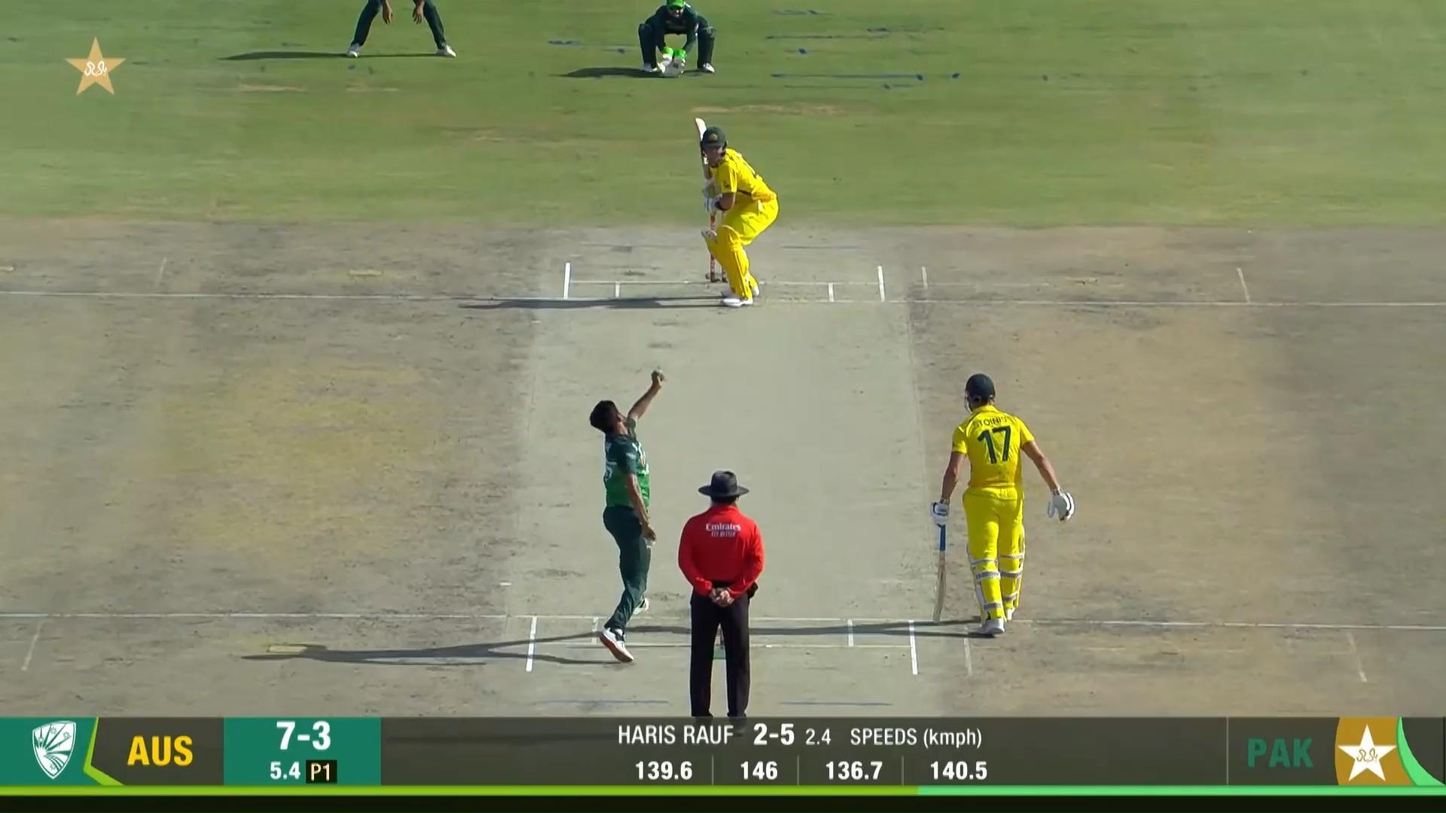BM 1: (694, 116, 779, 308)
BO: (589, 369, 667, 662)
